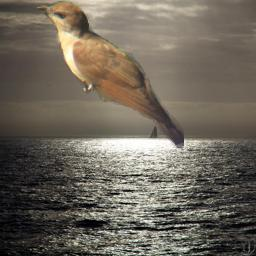Cuckoo: (35, 1, 184, 148)
